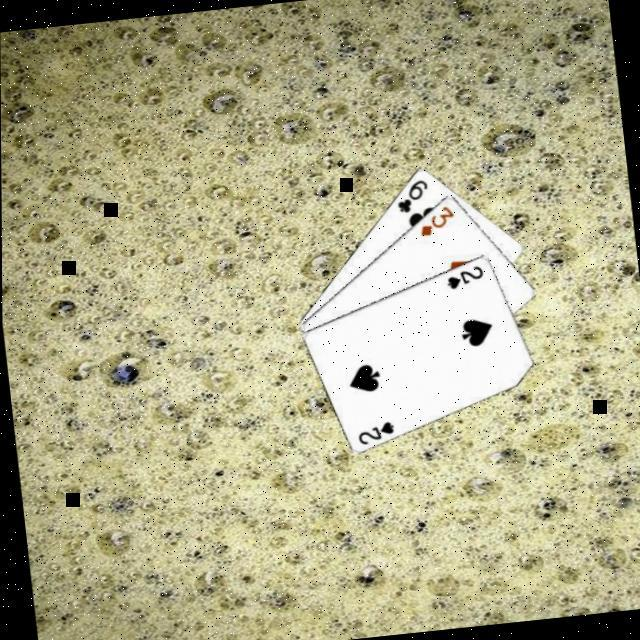2S: (441, 264, 485, 294), (351, 419, 395, 449)
3D: (412, 203, 456, 241)
6C: (389, 177, 431, 217)
